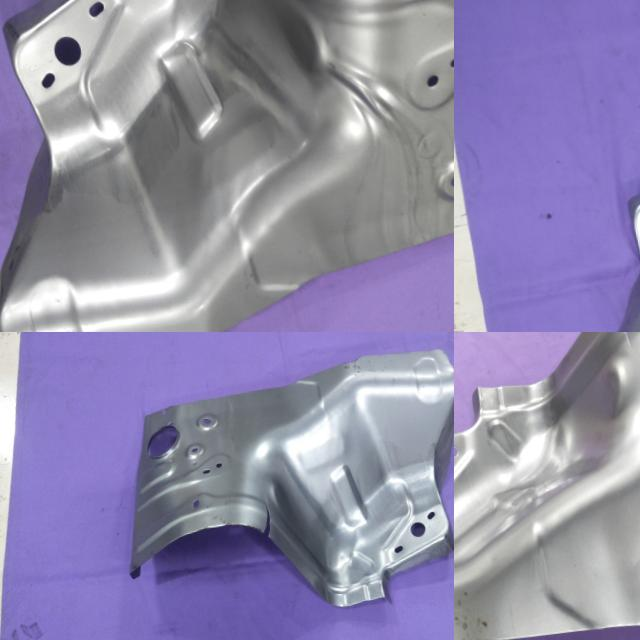Defect: (246, 484, 289, 548), (606, 332, 638, 364)
rust: (454, 568, 534, 640)
